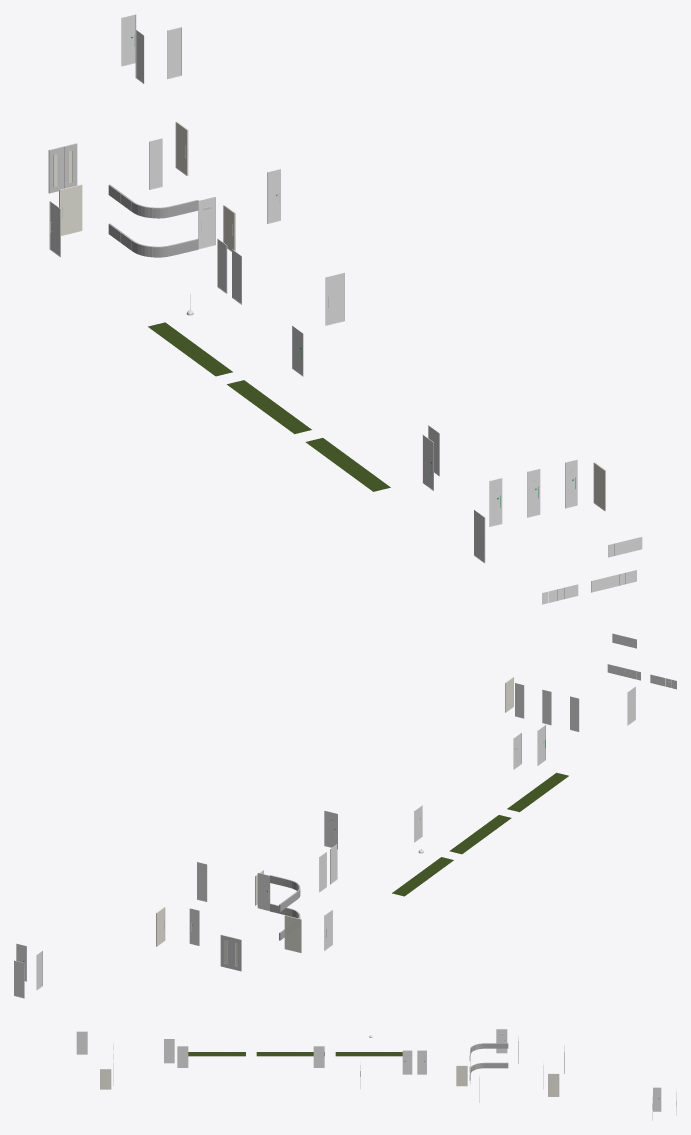
The model's file is part1_separate.fbx.
3 views of the same model, one above another, from view 1: azimuth 30°, elevation 25°; view 2: azimuth 150°, elevation 25°; view 3: azimuth 270°, elevation 25° (orthographic). The views are drawn at different scales.
Parts seen in each view (by area): view 1: glass_top, green_matte3, green_matte1, green_matte2, steel_door, reception_animate_door1, cabin_animate_door_1, cabin_animate_door_3; view 2: glass_top, green_matte3, green_matte2, green_matte1, steel_door, reception_animate_door1; view 3: glass_top, green_matte1, green_matte2, green_matte3, emergency_gate, reception_animate_door2, door_08, door_04, door_06, door_05, reception_animate_door3, cafeteria_animate_door (+3 smaller).
Part boxes in pixels (<box>): glass_top: <box>108,184,198,257</box>; green_matte3: <box>305,438,390,491</box>; green_matte1: <box>148,322,232,376</box>; green_matte2: <box>227,380,311,434</box>; steel_door: <box>48,143,77,193</box>; reception_animate_door1: <box>59,184,82,235</box>; cabin_animate_door_1: <box>325,272,344,325</box>; cabin_animate_door_3: <box>198,197,215,249</box>; glass_top: <box>270,875,300,940</box>; green_matte3: <box>507,772,568,812</box>; green_matte2: <box>449,815,511,854</box>; green_matte1: <box>392,857,453,896</box>; steel_door: <box>220,934,241,971</box>; reception_animate_door1: <box>284,915,301,952</box>; glass_top: <box>469,1043,508,1080</box>; green_matte1: <box>335,1052,402,1056</box>; green_matte2: <box>256,1052,324,1056</box>; green_matte3: <box>188,1052,245,1056</box>; emergency_gate: <box>76,1031,87,1054</box>; reception_animate_door2: <box>548,1073,559,1096</box>; door_08: <box>402,1050,412,1074</box>; door_04: <box>164,1039,174,1063</box>; door_06: <box>313,1046,324,1067</box>; door_05: <box>177,1046,188,1067</box>; reception_animate_door3: <box>456,1065,467,1086</box>; cafeteria_animate_door: <box>100,1069,111,1089</box>.
Bounding box in the file's own units: 1651 × 304 × 6703.
Materials: 8 (2 with a texture image).
